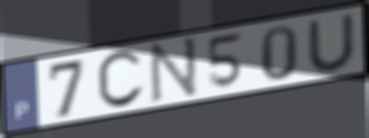0: (257, 24, 301, 82)
5: (205, 32, 246, 91)
7: (46, 59, 88, 120)
C: (94, 48, 147, 112)
N: (149, 34, 199, 105)
U: (305, 11, 359, 73)
